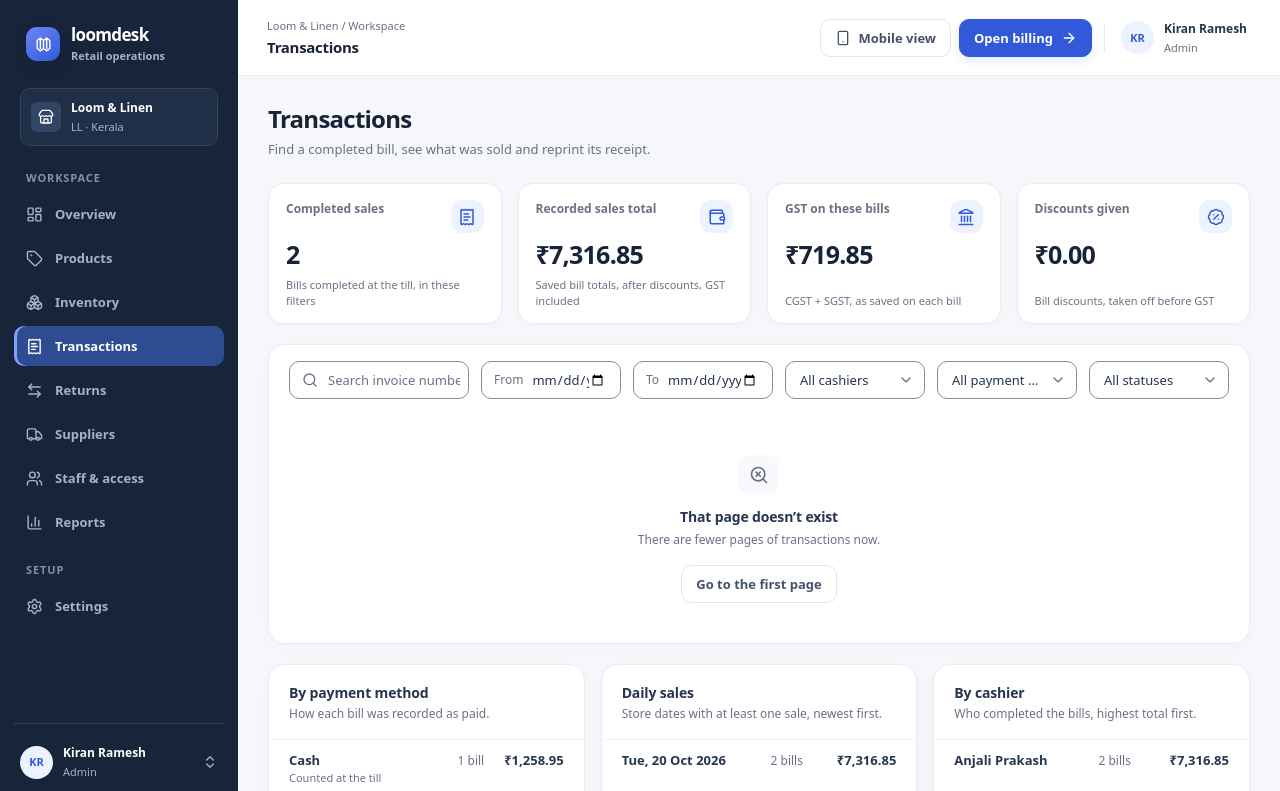
transactions list › offers the first page when the page number is past the end
Check: the heading "Transactions" is shown, box 268,102 -> 411,135
What coordinates should you click on to do the following:
click the button "Go to the first page"
I would click on:
 (759, 584)
Its box is 681,565 -> 837,603.
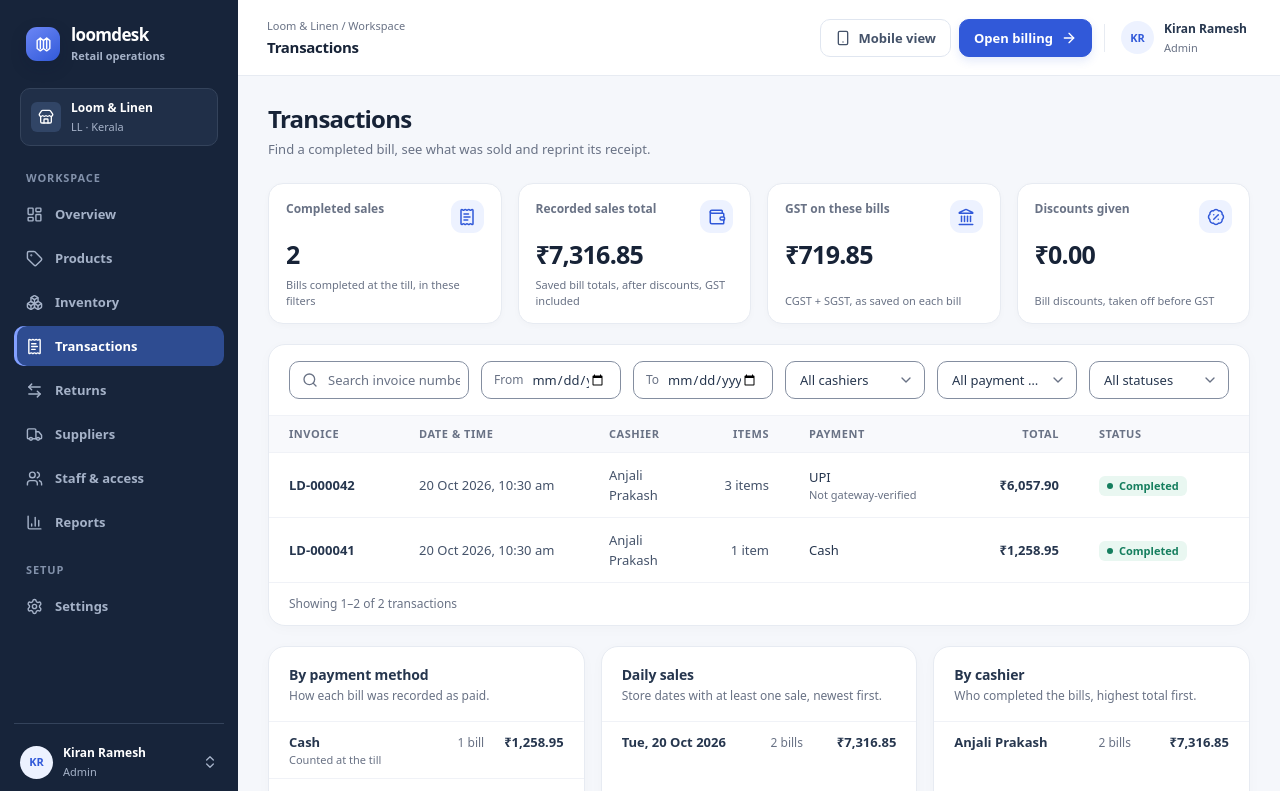
Check: the table named "Transactions" is shown, box 269,415 -> 1249,582
